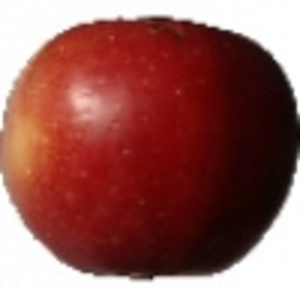maçã braeburn: (1, 13, 298, 283)
